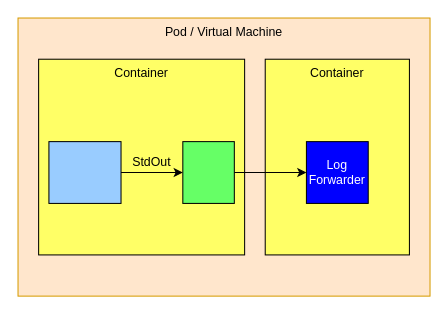
The diagram is 448 pixels wide and 314 high, and some of its shapes have lost their labels. Here are the shapes that lost their labels. From the top down, the centre of each, then its label:
At (84,172): "Application".
At (208,172): "Docker Fluentd Driver".
